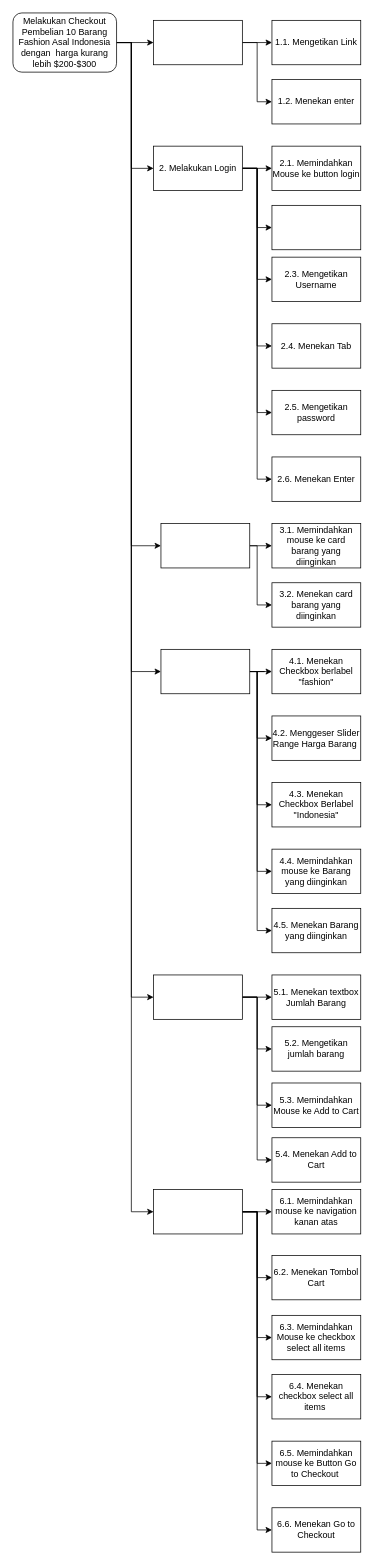
The diagram is 374 pixels wide and 1565 high, and some of its shapes have lost their labels. Here are the shapes that lost their labels. From the top down, the centre of each, then its label:
At point (197, 42): "1. Membuka Website".
At point (316, 227): "2.2. Menekan button login".
At point (205, 545): "3. Memilih Barang".
At point (205, 671): "4. Menfilter Barang".
At point (197, 996): "5. Menambahkan Barang Ke Cart".
At point (197, 1211): "6. Checkout Barang".
